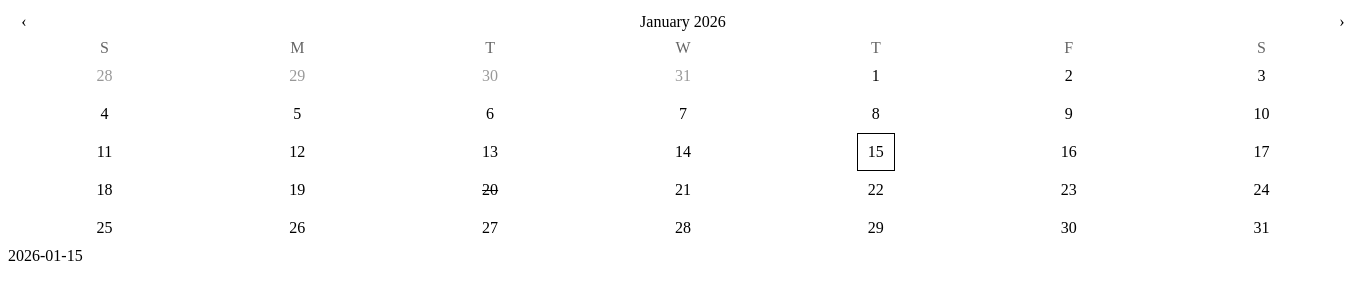
Test: Calendar › selects a day on click and hands back a DateValue, not a Date
The width and height of the screenshot is (1361, 281).
Click the button with class "sve-calendar__day" showing "18" at (104, 190), box [96,181,112,198]
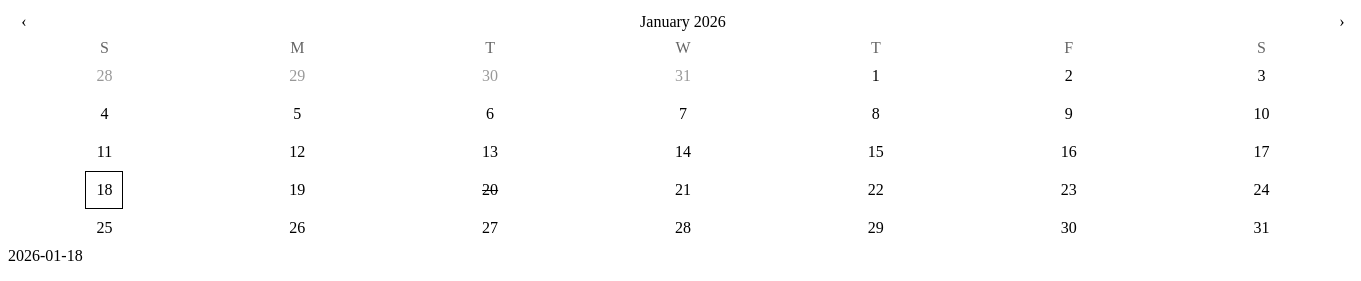
Expected: the text with test id "value" reads "2026-01-18", [8,247,83,264]
